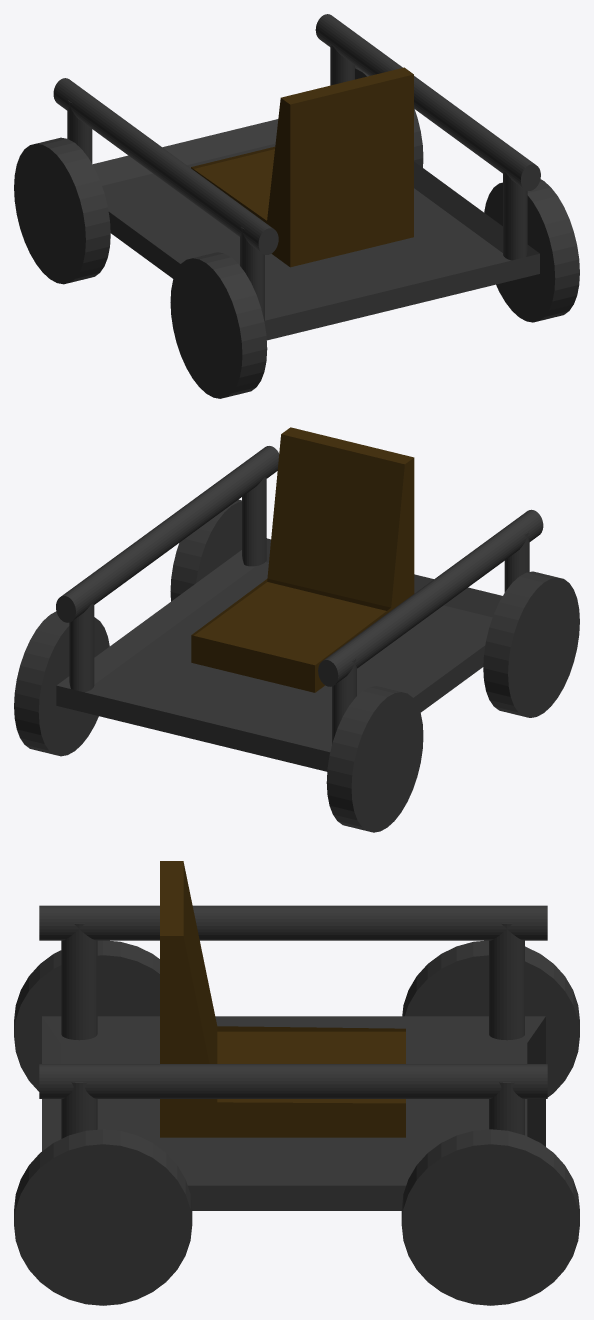
Rendered from cart.obj.
3 renders of one model, top to bottom at view 1: azimuth 30°, elevation 25°; view 2: azimuth 150°, elevation 25°; view 3: azimuth 270°, elevation 25°, orthographic. The views are drawn at different scales.
Visible parts, largest first — view 1: Cube, Cube.001, Circle.001, Circle.010, Cylinder, Circle.003, Cylinder.005, Cylinder.003, Cylinder.001, Cylinder.002, Cylinder.004, Circle.002; view 2: Cube.001, Cube, Circle.010, Circle.001, Circle.002, Cylinder.005, Cylinder, Circle.003, Cylinder.004, Cylinder.003, Cylinder.002, Cylinder.001; view 3: Cube, Cube.001, Circle.002, Circle.003, Cylinder.005, Cylinder, Circle.010, Circle.001, Cylinder.001, Cylinder.002, Cylinder.003, Cylinder.004.
Boxes of the visible parts, bbox=[...] form: Cube: bbox=[92, 119, 539, 340]; Cube.001: bbox=[191, 67, 413, 267]; Circle.001: bbox=[170, 252, 267, 398]; Circle.010: bbox=[14, 137, 110, 284]; Cylinder: bbox=[53, 78, 278, 254]; Circle.003: bbox=[484, 179, 579, 322]; Cylinder.005: bbox=[315, 14, 540, 190]; Cylinder.003: bbox=[503, 172, 527, 260]; Cylinder.001: bbox=[240, 227, 264, 320]; Cylinder.002: bbox=[67, 100, 92, 163]; Cylinder.004: bbox=[330, 45, 354, 85]; Circle.002: bbox=[355, 65, 423, 167]; Cube.001: bbox=[191, 427, 414, 692]; Cube: bbox=[56, 538, 502, 771]; Circle.010: bbox=[326, 686, 423, 832]; Circle.001: bbox=[483, 571, 579, 717]; Circle.002: bbox=[14, 611, 109, 756]; Cylinder.005: bbox=[56, 446, 279, 622]; Cylinder: bbox=[318, 509, 543, 686]; Circle.003: bbox=[170, 499, 241, 601]; Cylinder.004: bbox=[69, 603, 94, 692]; Cylinder.003: bbox=[242, 477, 266, 566]; Cylinder.002: bbox=[332, 658, 356, 744]; Cylinder.001: bbox=[504, 532, 529, 592]; Cube: bbox=[42, 1016, 545, 1210]; Cube.001: bbox=[160, 861, 405, 1137]; Circle.002: bbox=[401, 1129, 579, 1305]; Circle.003: bbox=[14, 1129, 192, 1305]; Cylinder.005: bbox=[39, 1064, 547, 1098]; Cylinder: bbox=[39, 905, 547, 940]; Circle.010: bbox=[402, 940, 579, 1097]; Circle.001: bbox=[14, 940, 159, 1091]; Cylinder.001: bbox=[61, 923, 97, 1040]; Cylinder.002: bbox=[489, 923, 524, 1040]; Cylinder.003: bbox=[61, 1082, 97, 1138]; Cylinder.004: bbox=[489, 1082, 524, 1135].
Bounding box in the file's own units: 1.92 × 1.34 × 2.25.
